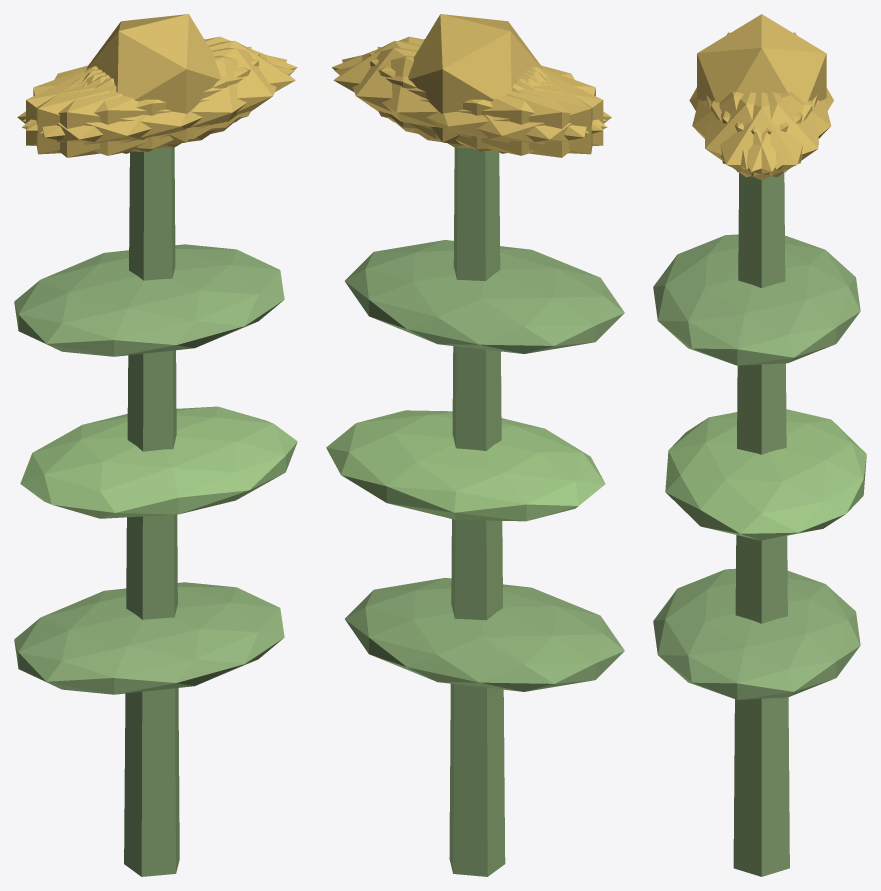
The model's file is antidesma-montanum.glb.
The picture shows the model from 3 angles, left to right: view 1: azimuth 30°, elevation 25°; view 2: azimuth 150°, elevation 25°; view 3: azimuth 270°, elevation 25°; orthographic projection.
Parts seen in each view (by area): view 1: stem, leaf2, leaf0, leaf1, center, petal1, petal6, petal2, petal5, petal7, petal0, petal4 (+2 smaller); view 2: stem, leaf2, leaf1, leaf0, center, petal8, petal3, petal7, petal4, petal2, petal0, petal5 (+2 smaller); view 3: stem, leaf2, leaf1, leaf0, center, petal0, petal5, petal4, petal8, petal1.
Part boxes in pixels (<box>): stem: <box>124,147,179,876</box>; leaf2: <box>14,244,284,356</box>; leaf0: <box>14,582,284,694</box>; leaf1: <box>20,406,297,518</box>; center: <box>86,14,220,144</box>; petal1: <box>22,55,294,155</box>; petal6: <box>17,67,214,157</box>; petal2: <box>36,46,251,154</box>; petal5: <box>40,47,286,148</box>; petal7: <box>26,52,259,151</box>; petal0: <box>86,40,295,139</box>; petal4: <box>23,36,297,130</box>; stem: <box>449,147,505,876</box>; leaf2: <box>345,240,624,353</box>; leaf1: <box>326,410,605,521</box>; leaf0: <box>345,577,624,691</box>; center: <box>408,14,542,144</box>; petal8: <box>334,55,607,155</box>; petal3: <box>414,67,611,157</box>; petal7: <box>377,46,592,154</box>; petal4: <box>342,47,588,148</box>; petal2: <box>369,52,603,151</box>; petal0: <box>333,41,543,139</box>; petal5: <box>332,36,605,130</box>; stem: <box>733,172,789,876</box>; leaf2: <box>653,234,860,365</box>; leaf1: <box>665,409,866,540</box>; leaf0: <box>653,568,860,699</box>; center: <box>697,14,826,102</box>; petal0: <box>706,92,817,180</box>; petal5: <box>704,92,812,177</box>; petal4: <box>711,92,818,177</box>; petal8: <box>721,91,831,169</box>; petal1: <box>692,91,802,169</box>.
Bounding box in the file's own units: 0.1452 × 0.4347 × 0.101.
